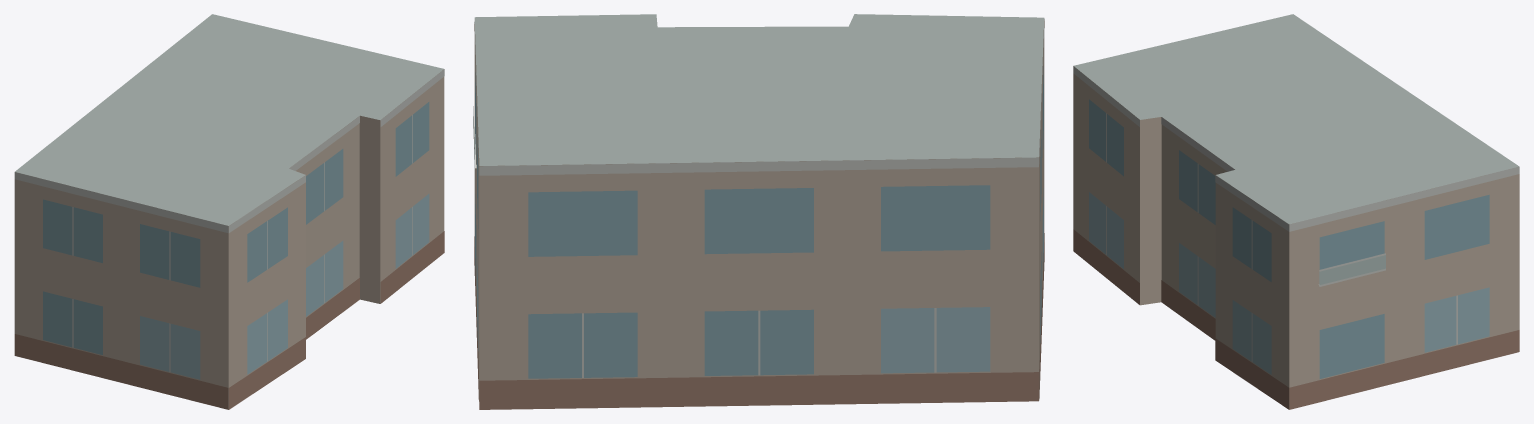
The model's file is survey-upis-32666845.glb.
3 renders of one model, left to right at view 1: azimuth 30°, elevation 25°; view 2: azimuth 150°, elevation 25°; view 3: azimuth 270°, elevation 25°, orthographic. The views are drawn at different scales.
Visible parts, largest first — view 1: survey-upis-32666845.tmp; view 2: survey-upis-32666845.tmp; view 3: survey-upis-32666845.tmp.
Part boxes in pixels (x1=…): survey-upis-32666845.tmp: x1=14, y1=14, x2=444, y2=409; survey-upis-32666845.tmp: x1=473, y1=14, x2=1044, y2=409; survey-upis-32666845.tmp: x1=1073, y1=14, x2=1519, y2=409.
Size of the model in its own units: 14.86 by 6.1 by 13.32.
